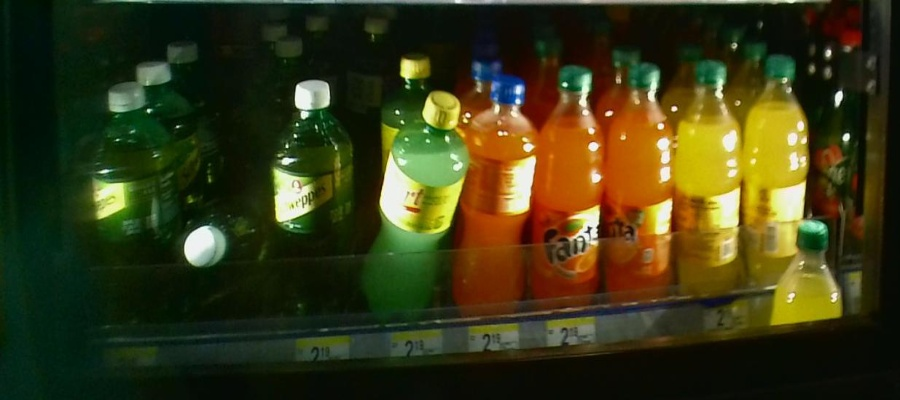bottle: (82, 79, 173, 339), (267, 77, 356, 341), (369, 87, 463, 325), (537, 61, 606, 320), (748, 43, 820, 290), (462, 76, 532, 322), (611, 57, 677, 314), (681, 50, 741, 311), (175, 180, 262, 352)
